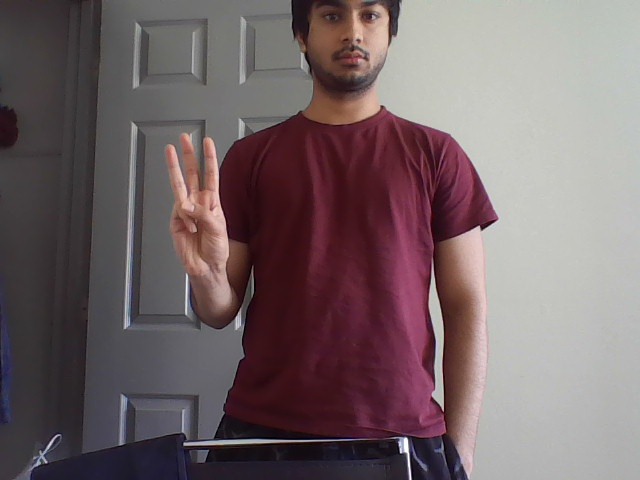three: (155, 128, 230, 208)
